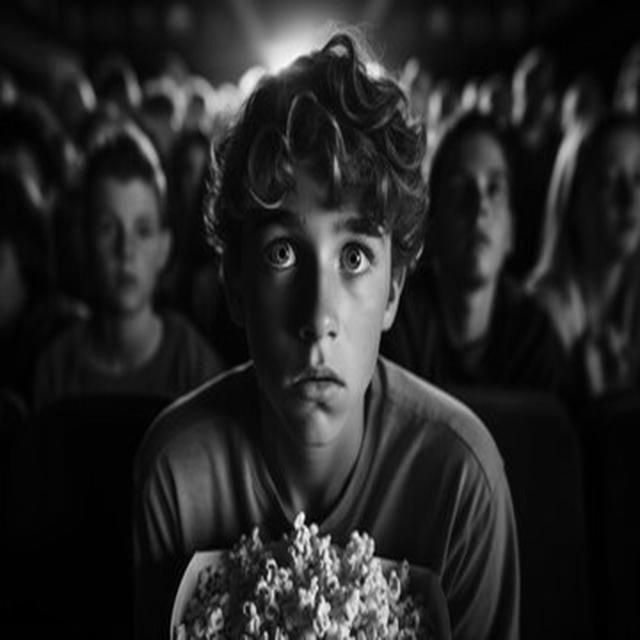Fear: (247, 172, 387, 448)
